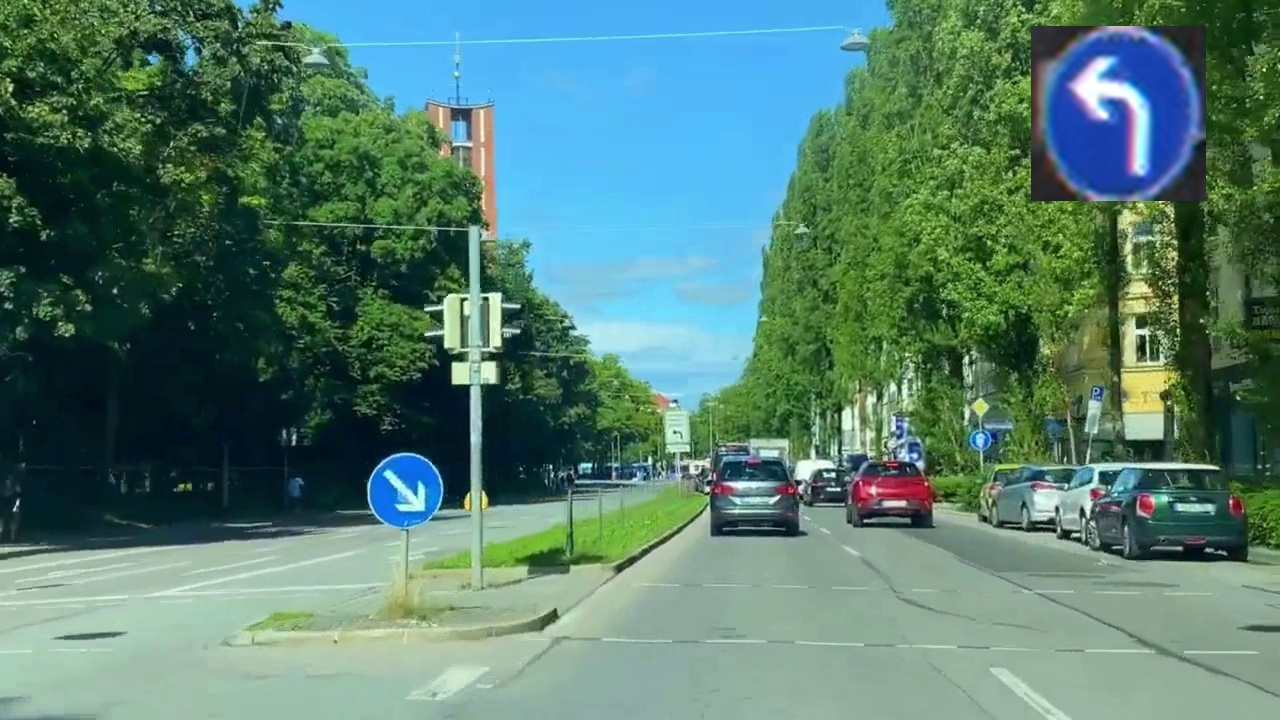Turn left: (1031, 26, 1206, 201)
